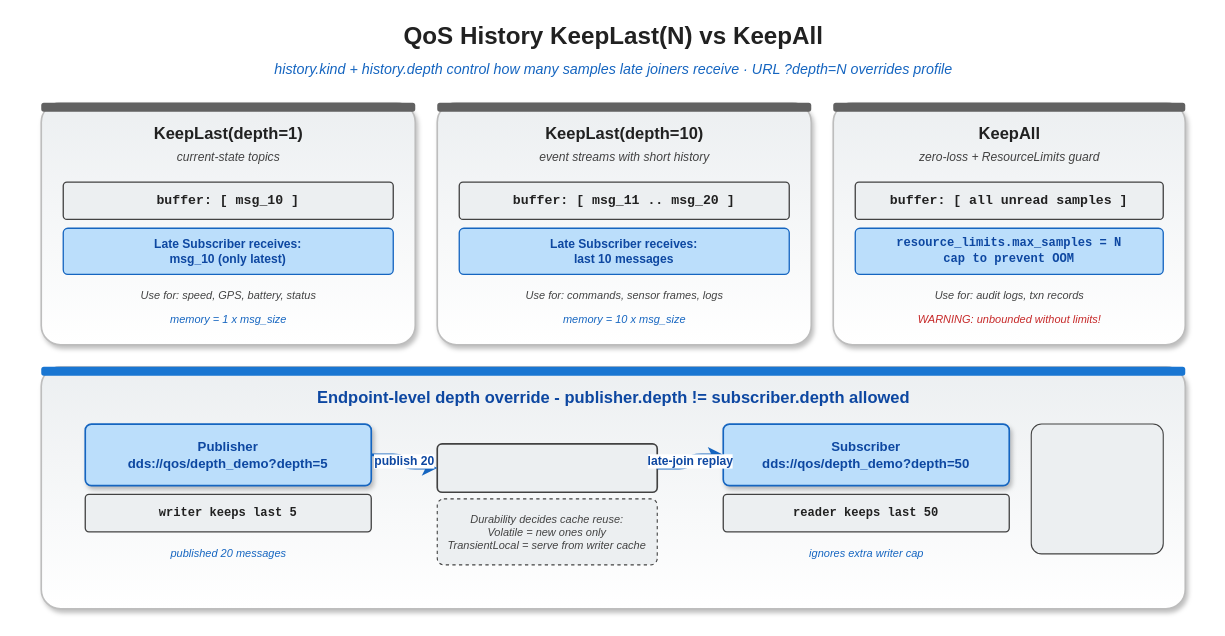
Some shapes in this 1225 by 636 pixel diagram are drawn without their labels. The centre of each missing label's shape, as x and y in pixels:
DDS transport: (547,468)
memory ~ topics x depth x avg_msg_size e.g. 1 topic x depth=1000 x 1MB = 1 GB: (1096,488)
